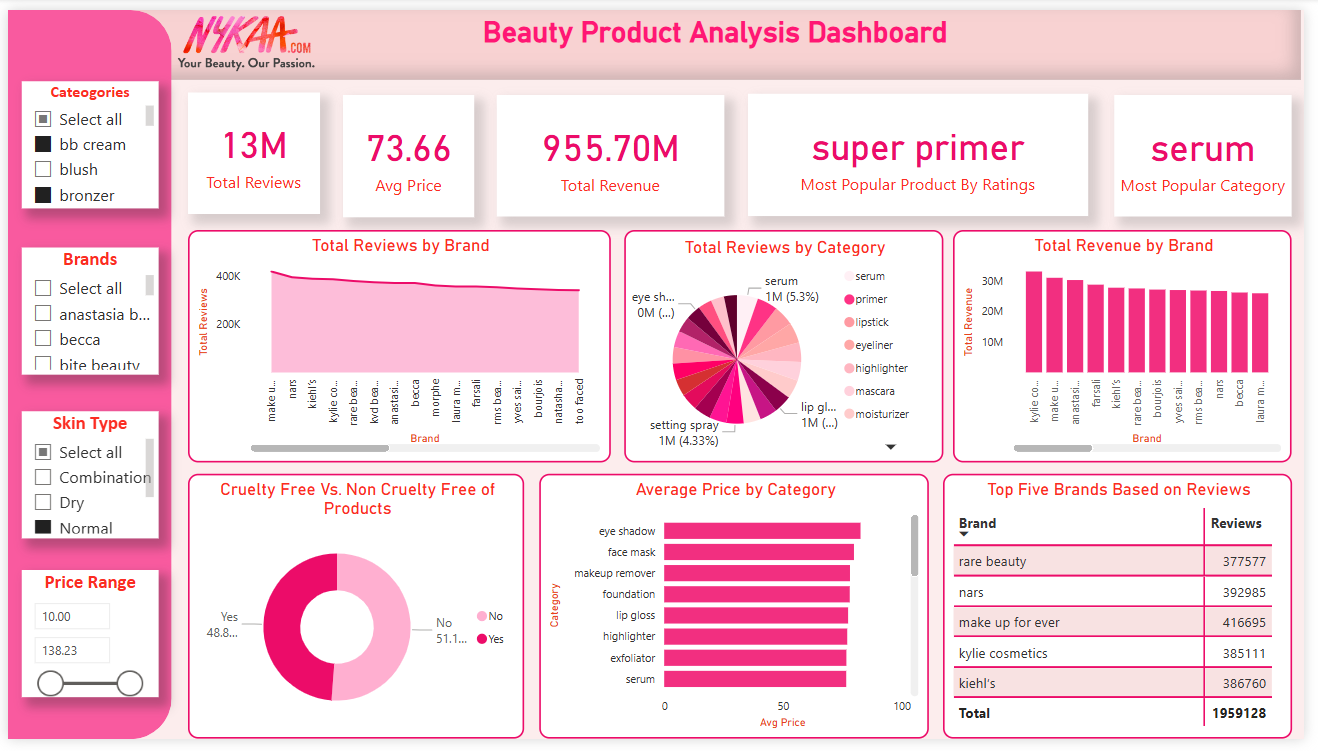

This screenshot's page, from the dashboard's own definition file:
{"tool":"powerbi","page":{"name":"Insights Of Nykaa beauty products","canvas":[1280,720],"ordinal":0},"visuals":[{"type":"textbox","box":[0,0,1277,68.8],"z":0},{"type":"image","box":[161.7,0,148.4,70],"z":1000},{"type":"card","fields":{"Values":["BeautyProducts.Total Revenue"]},"box":[482.6,84.5,225,120],"z":2000},{"type":"card","fields":{"Values":["BeautyProducts.Total Reviews"]},"box":[177.3,82,130,120],"z":3000},{"type":"card","fields":{"Values":["BeautyProducts.Avg Price"]},"box":[330.9,84,129.6,121],"z":4000},{"type":"card","fields":{"Values":["BeautyProducts.Most Popular Category"]},"box":[1092.6,84,175.3,119.8],"z":5000},{"type":"card","fields":{"Values":["BeautyProducts.Most_Popular_Product_By_Rating"]},"box":[730.9,82.7,335.8,121],"z":6000},{"type":"clusteredColumnChart","fields":{"Y":["BeautyProducts.Total Revenue"],"Category":["BeautyProducts.Brand"]},"box":[933.3,217.3,334.6,229.6],"z":7000},{"type":"barChart","title":"Average Price by Category","fields":{"Category":["BeautyProducts.Category"],"Y":["BeautyProducts.Avg Price"]},"box":[524.7,458,385.2,261.7],"z":8000},{"type":"pieChart","fields":{"Category":["BeautyProducts.Category"],"Y":["BeautyProducts.Total Reviews"]},"box":[608.6,217.3,314.8,229.6],"z":9000},{"type":"lineChart","fields":{"Y":["BeautyProducts.Total Reviews"],"Category":["BeautyProducts.Brand"]},"box":[177.8,217.3,417.3,229.6],"z":10000},{"type":"tableEx","title":"Top Five Brands Based on Reviews","fields":{"Values":["BeautyProducts.Brand","Sum(BeautyProducts.Number_of_Reviews)"]},"box":[923.5,458,344.4,261.7],"z":11000},{"type":"shape","box":[0,0,161.7,720.2],"z":12000},{"type":"slicer","title":"Brands","fields":{"Values":["BeautyProducts.Brand"]},"box":[13.3,234,135.1,125.5],"z":13000},{"type":"slicer","title":"Price Range","fields":{"Values":["BeautyProducts.Price"]},"box":[13.3,552.5,135.1,125.5],"z":14000},{"type":"slicer","title":"Skin Type","fields":{"Values":["BeautyProducts.Skin_Type"]},"box":[13.4,394.1,134.7,125.8],"z":15000},{"type":"slicer","title":"Cateogories","fields":{"Values":["BeautyProducts.Category"]},"box":[11.6,91.9,136,125.6],"z":16000},{"type":"donutChart","title":"Cruelty Free Vs. Non Cruelty Free of Products","fields":{"Category":["BeautyProducts.Cruelty_Free"],"Y":["CountNonNull(BeautyProducts.Product_Name)"]},"box":[177.8,458,332.1,261.7],"z":17000}]}

Visuals, with their boxes in screenshot pixels (x1, y1, x2, y2), scaled from the page's 1280x720 canvas onto the 1318x751 screenshot:
textbox: l=0, t=0, r=1315, b=72
image: l=167, t=0, r=319, b=73
card - BeautyProducts.Total Revenue: l=497, t=88, r=729, b=213
card - BeautyProducts.Total Reviews: l=183, t=86, r=316, b=211
card - BeautyProducts.Avg Price: l=341, t=88, r=474, b=214
card - BeautyProducts.Most Popular Category: l=1125, t=88, r=1306, b=213
card - BeautyProducts.Most_Popular_Product_By_Rating: l=753, t=86, r=1098, b=212
clusteredColumnChart - BeautyProducts.Total Revenue x BeautyProducts.Brand: l=961, t=227, r=1306, b=466
"Average Price by Category" barChart: l=540, t=478, r=937, b=750
pieChart - BeautyProducts.Category x BeautyProducts.Total Reviews: l=627, t=227, r=951, b=466
lineChart - BeautyProducts.Total Reviews x BeautyProducts.Brand: l=183, t=227, r=613, b=466
"Top Five Brands Based on Reviews" tableEx: l=951, t=478, r=1306, b=750
shape: l=0, t=0, r=167, b=750
"Brands" slicer: l=14, t=244, r=153, b=375
"Price Range" slicer: l=14, t=576, r=153, b=707
"Skin Type" slicer: l=14, t=411, r=152, b=542
"Cateogories" slicer: l=12, t=96, r=152, b=227
"Cruelty Free Vs. Non Cruelty Free of Products" donutChart: l=183, t=478, r=525, b=750
